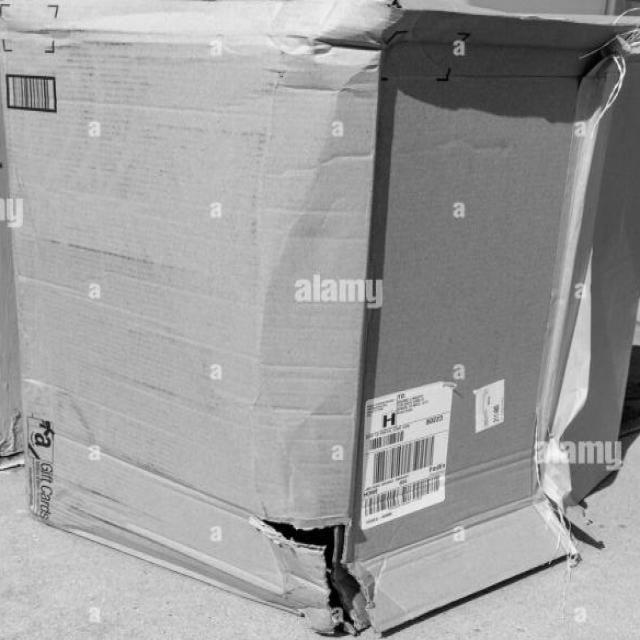hole: (253, 511, 356, 633)
